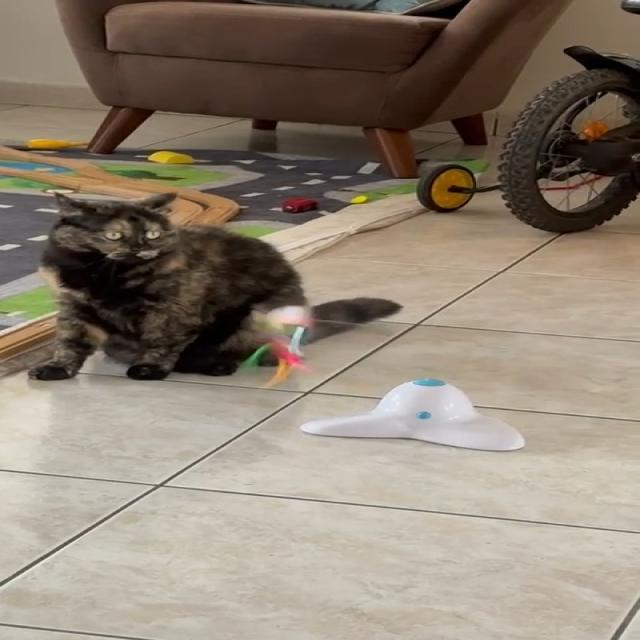authorized: (26, 190, 402, 381)
